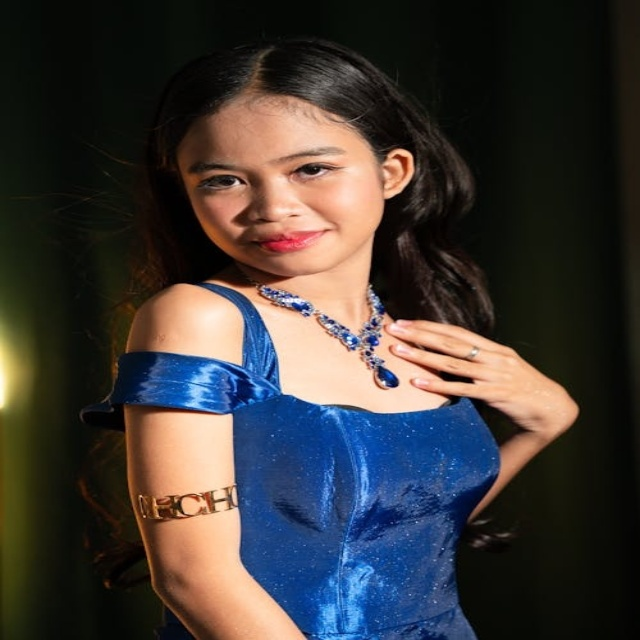Sin_gafas: (187, 143, 355, 201)
Sin_guantes: (384, 305, 589, 439)
Sin_mascara: (225, 213, 351, 261)
